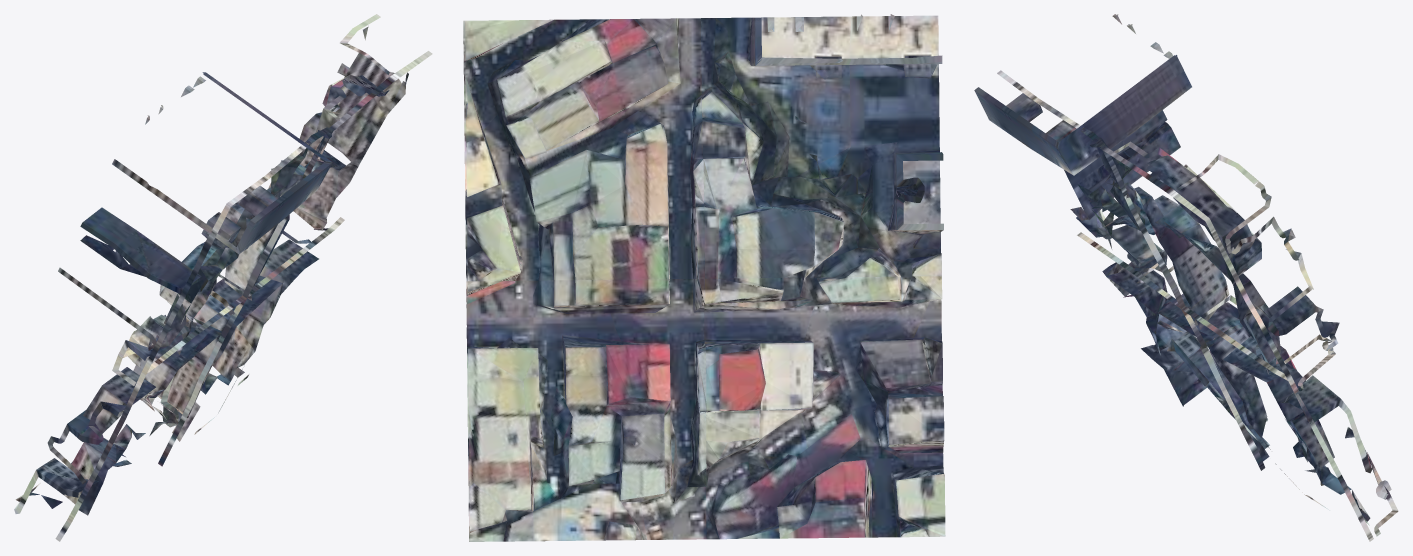
3 views of the same model, side by side, from view 1: azimuth 30°, elevation 25°; view 2: azimuth 150°, elevation 25°; view 3: azimuth 270°, elevation 25° (orthographic). The views are drawn at different scales.
Bounding box in the file's own units: 162 × 157 × 145.
1 material, 1 textured.
